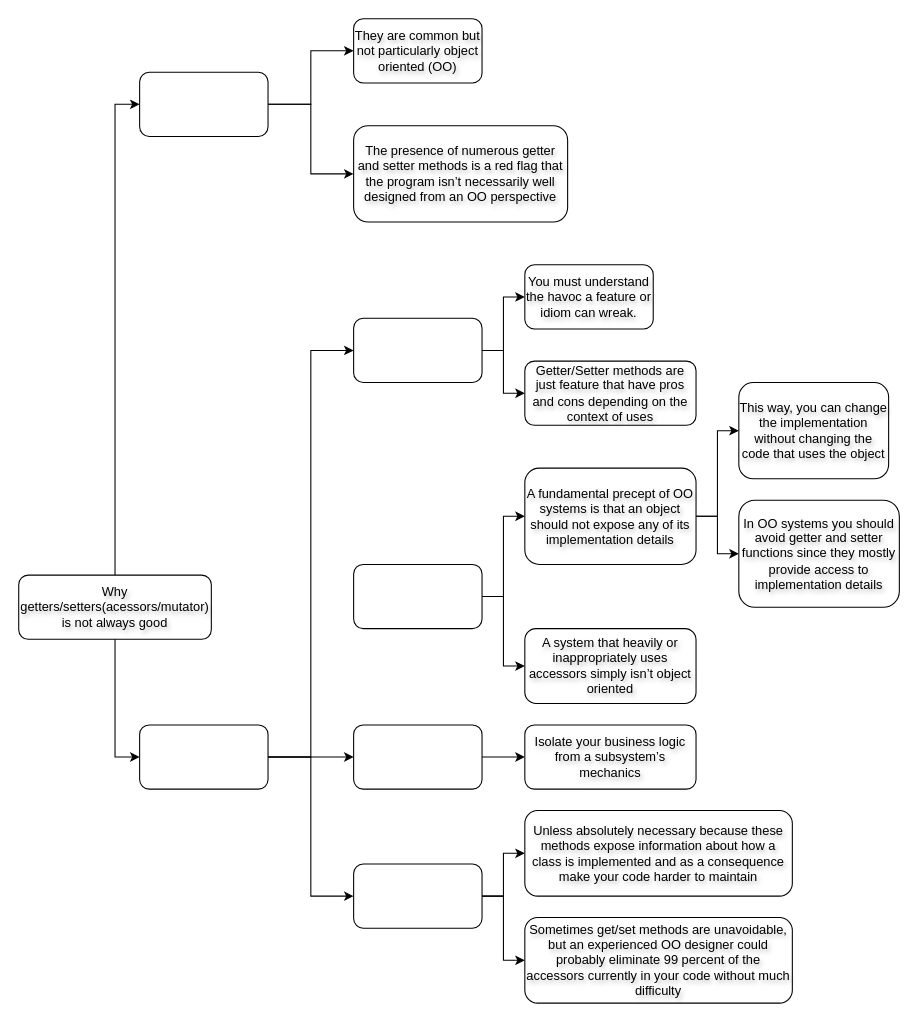
This 918x1022 diagram has some shape labels left out. The box of each missing label's shape, as (x1, y1, x2, y2) in pixels:
Data abstraction: (353, 563, 482, 629)
Draw thyself: (353, 724, 482, 789)
Reason: (139, 724, 268, 789)
The nature of design: (353, 317, 482, 383)
Thesis: (139, 71, 268, 136)
When is an accessor okay?: (353, 863, 482, 928)
